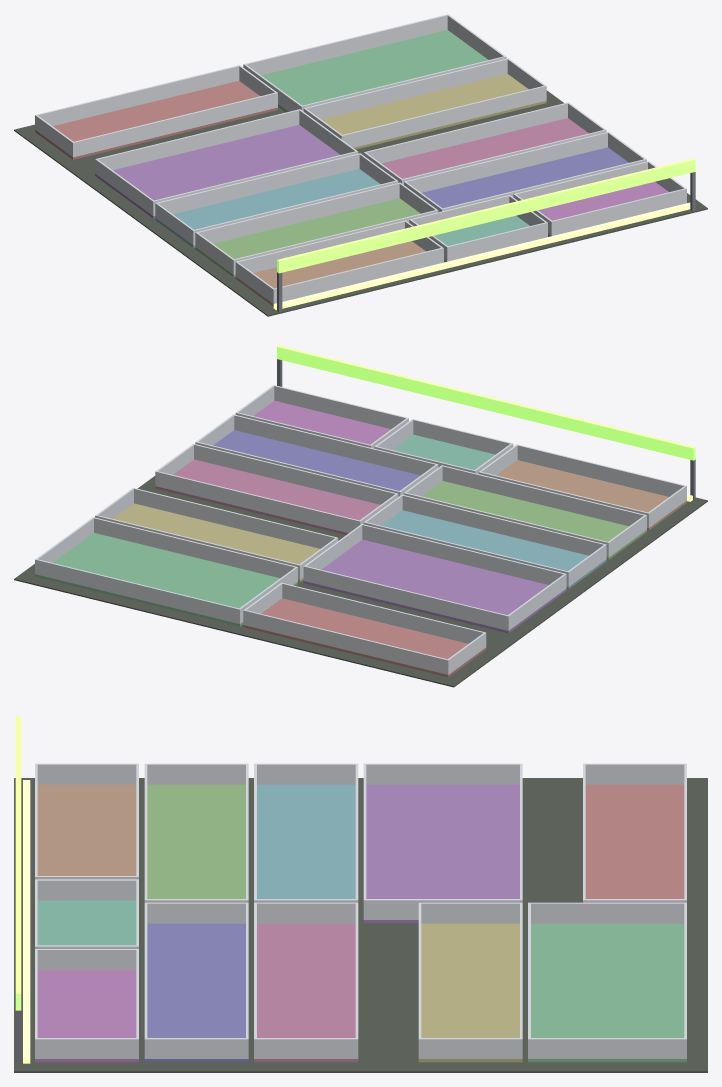
The model's file is hall-operating-eng.glb.
3 renders of one model, top to bottom at view 1: azimuth 30°, elevation 25°; view 2: azimuth 150°, elevation 25°; view 3: azimuth 270°, elevation 25°, orthographic. The views are drawn at different scales.
Parts seen in each view (by area): view 1: Operating Engineers; view 2: Operating Engineers; view 3: Operating Engineers.
Boxes of the visible parts, bbox=[...] form: Operating Engineers: bbox=[14, 14, 707, 316]; Operating Engineers: bbox=[14, 345, 707, 687]; Operating Engineers: bbox=[14, 716, 707, 1072].
Size of the model in its own units: 38 by 4.3 by 38.
